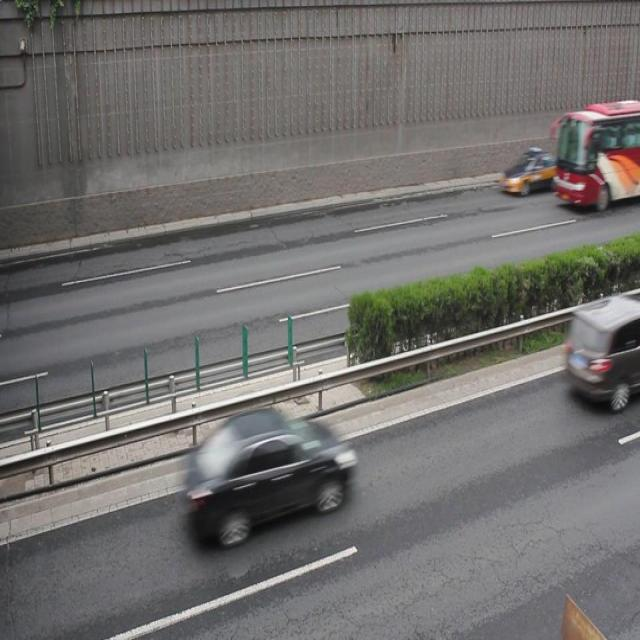car: (186, 405, 355, 543), (500, 153, 563, 194)
truck: (564, 291, 640, 412)
van: (556, 103, 640, 208)
